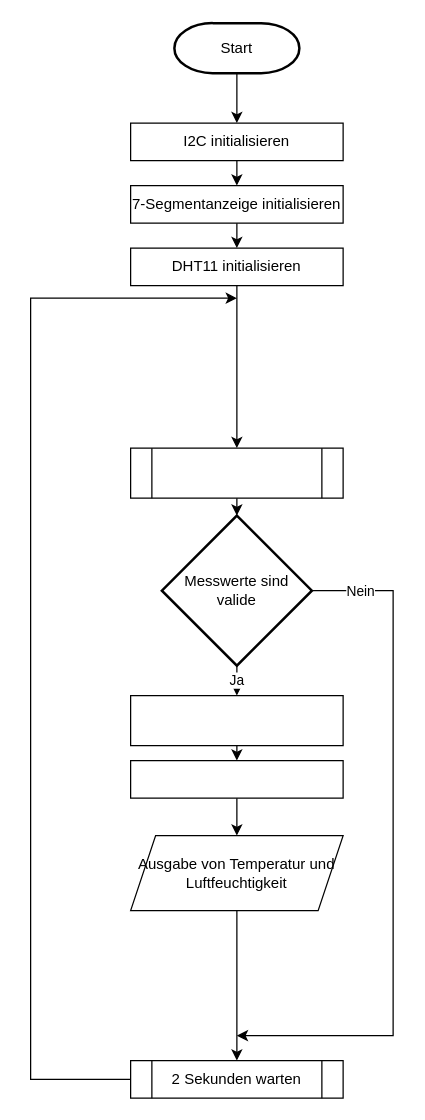
This 425x1120 diagram has some shape labels left out. The shapes that lost their labels are listed below. From the top down, each one's box as (x1, y1, x2, y2) in pixels, then its label:
(129, 447, 343, 498): Temperatur und Luftfeuchtigkeit messen
(129, 694, 343, 746): Temperatur runden
(129, 759, 343, 798): Luftfeuchtigkeit runden
